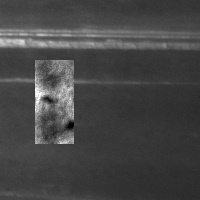patches: (35, 60, 74, 144)
scratches: (1, 25, 198, 50), (1, 71, 171, 87)
